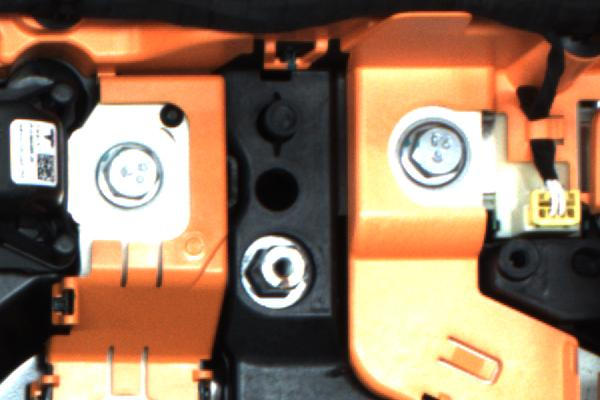nut_b: (96, 134, 181, 216), (397, 115, 473, 197)
